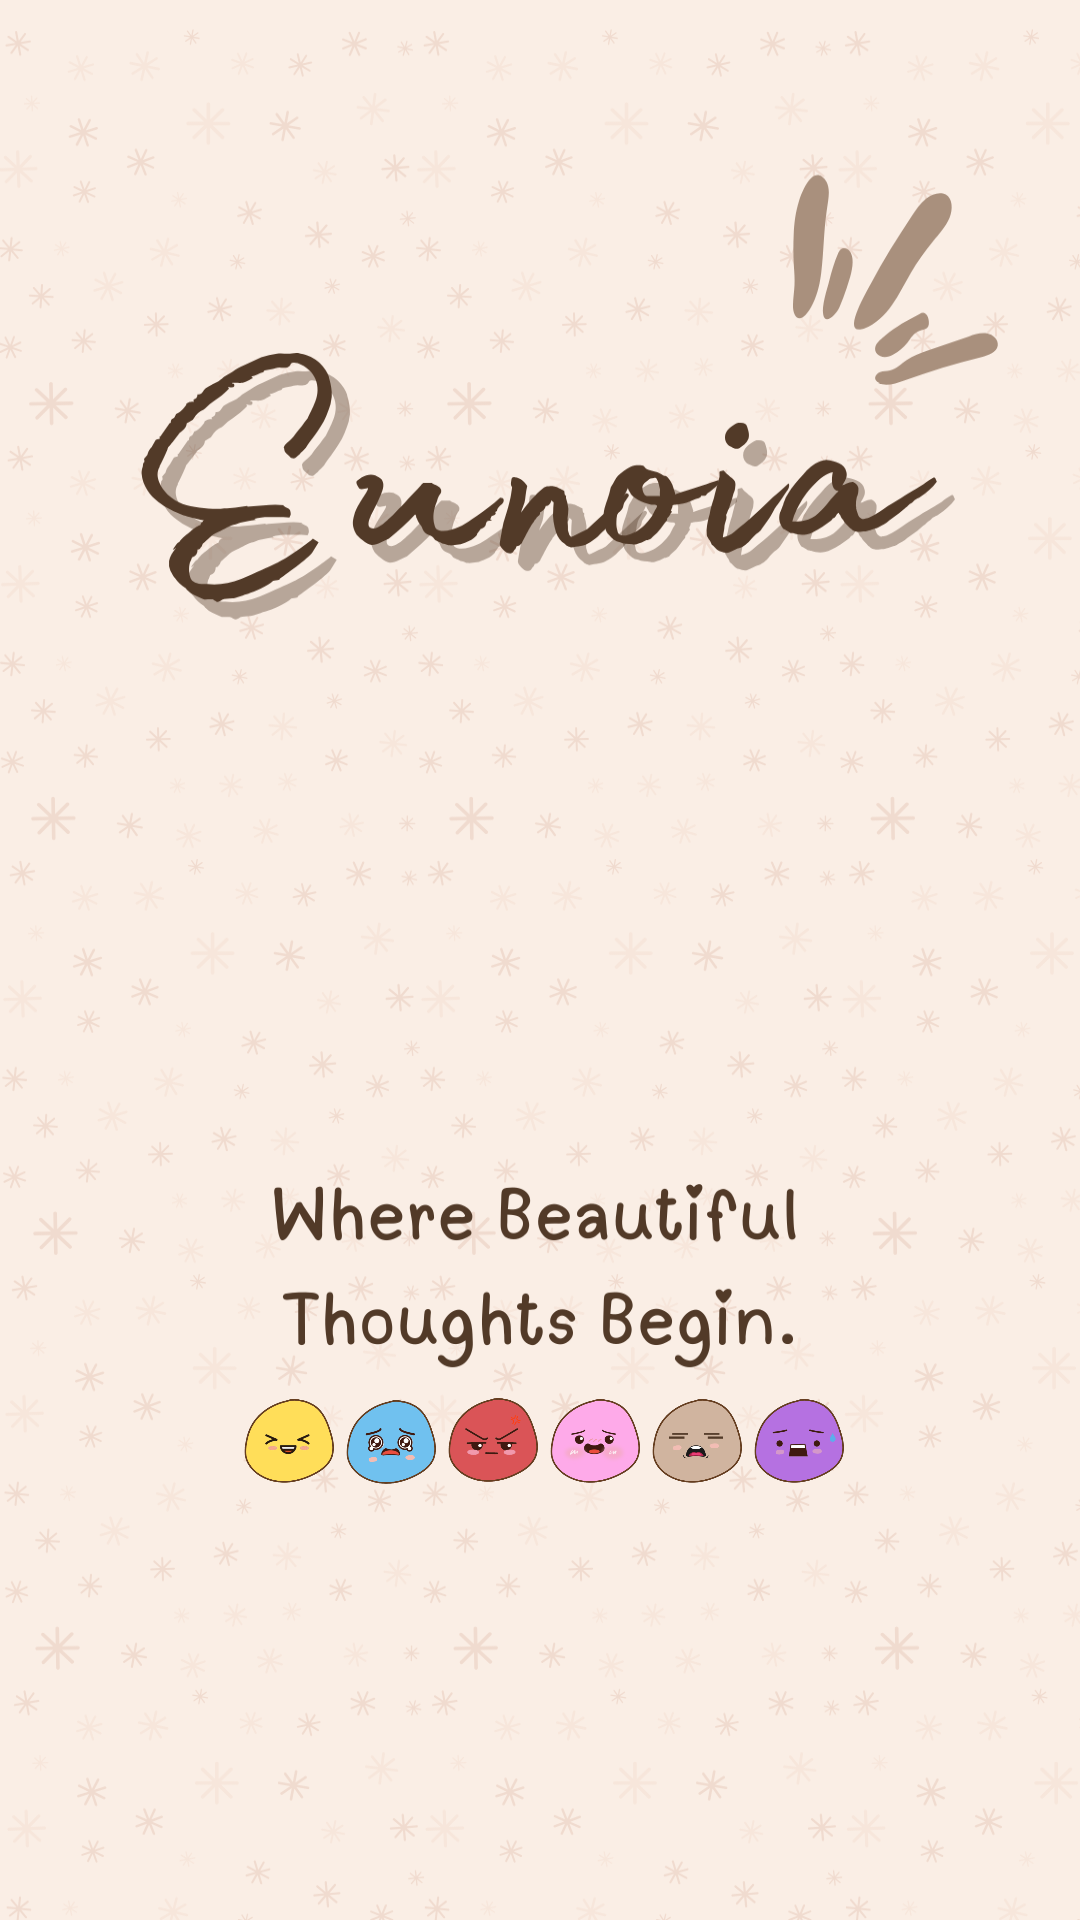

Screen size 1080×1920. Icon name, then its center in pixels as (x,y):
anger: (493,1440)
bored: (697,1441)
embarressed: (595,1441)
fear: (799,1441)
joyful: (289,1441)
sadness: (391,1442)
